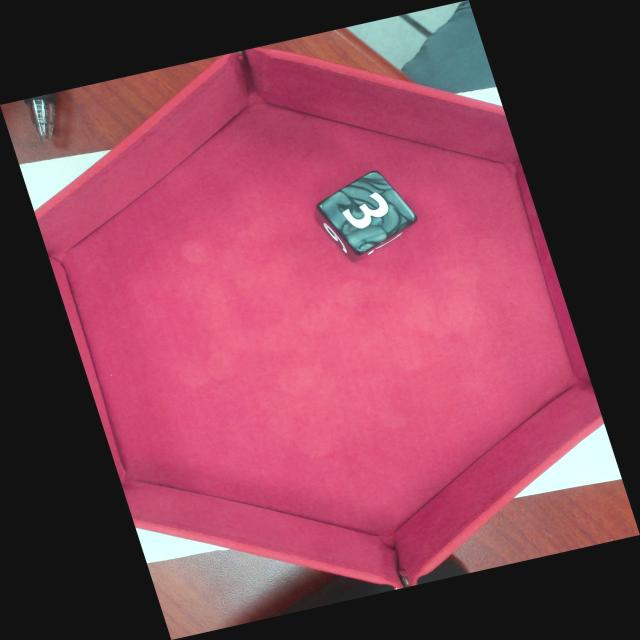dice: (322, 175, 414, 257)
